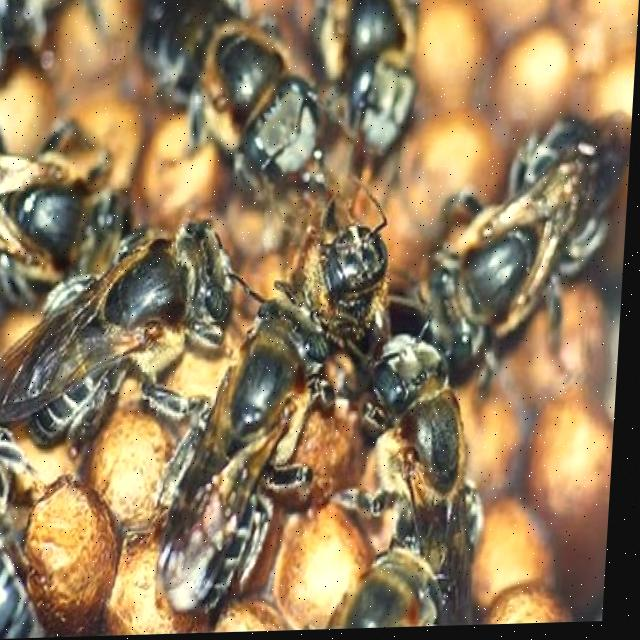Meliponula: (0, 200, 241, 522), (148, 261, 335, 623), (409, 89, 635, 377), (347, 322, 513, 631), (144, 0, 359, 218), (0, 131, 127, 304), (300, 196, 409, 363), (341, 525, 462, 631)
